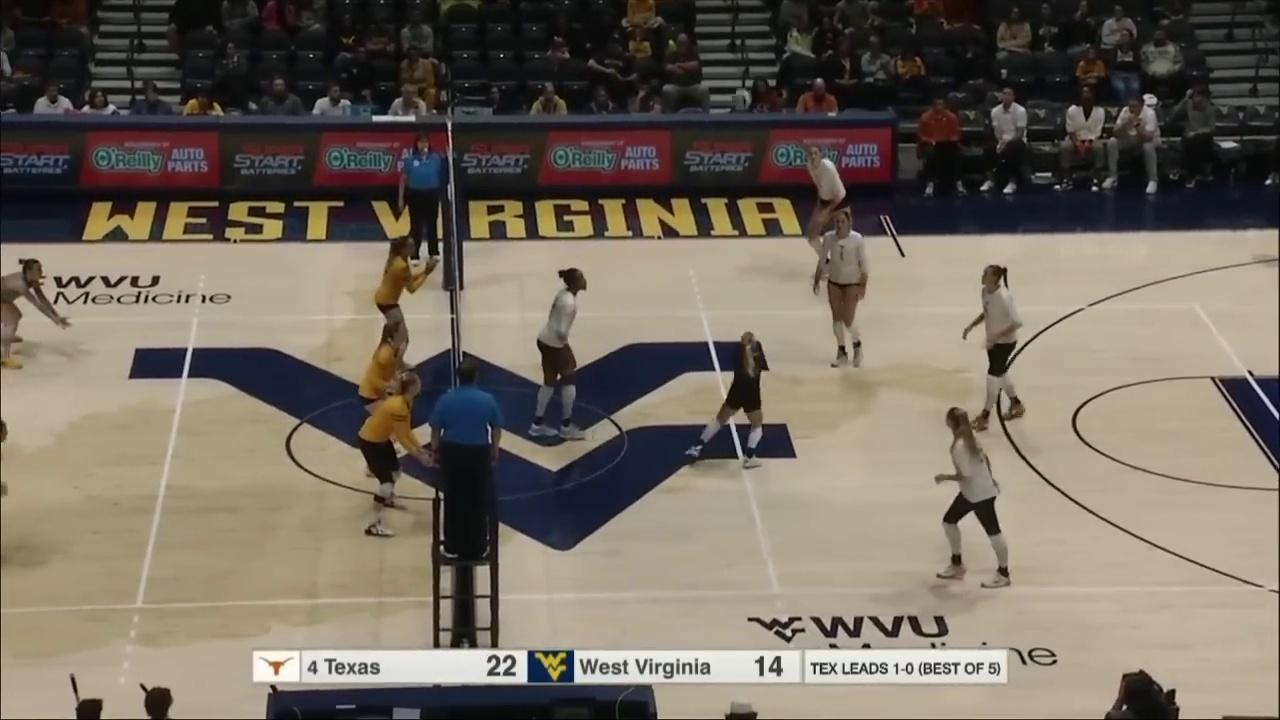player: (935, 407, 1011, 587), (357, 373, 435, 537), (684, 332, 769, 469), (962, 264, 1025, 429), (530, 268, 589, 441), (814, 214, 869, 369), (377, 235, 437, 377), (0, 257, 73, 371), (361, 319, 409, 474), (804, 146, 853, 276)
refree: (430, 361, 501, 555), (401, 133, 447, 260)
